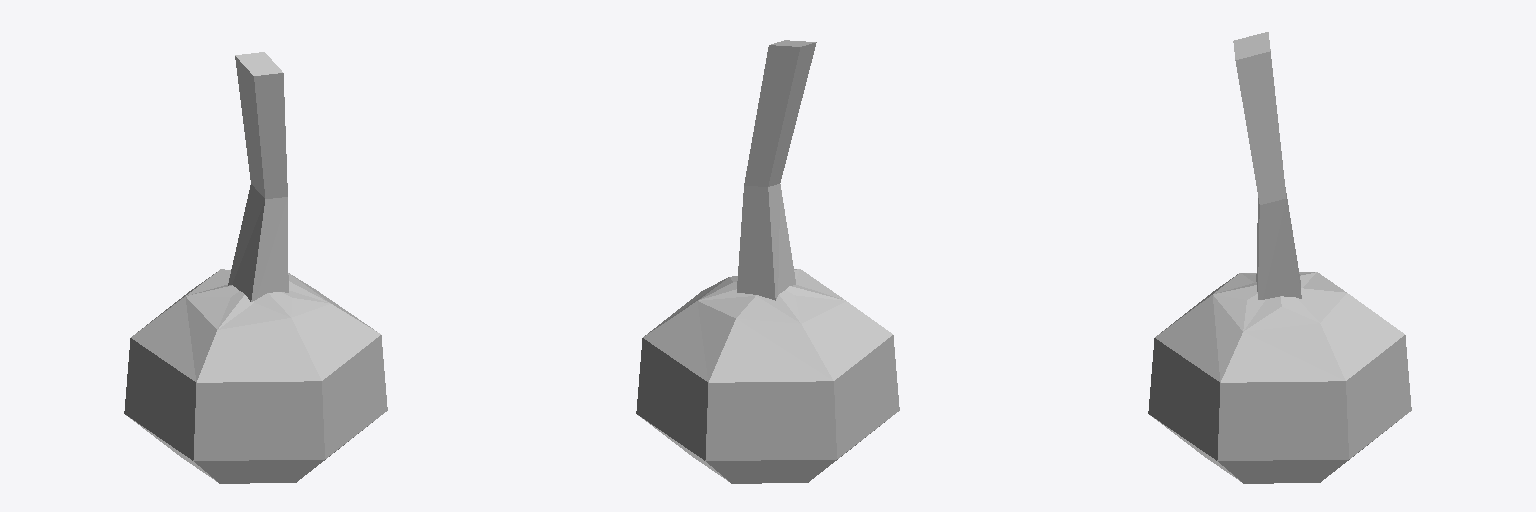
File: SM_Prop_Tomato_01_M.obj
3 views of the same model, side by side, from view 1: azimuth 30°, elevation 25°; view 2: azimuth 150°, elevation 25°; view 3: azimuth 270°, elevation 25° (orthographic).
Size of the model in its own units: 8.81 by 17.7 by 10.